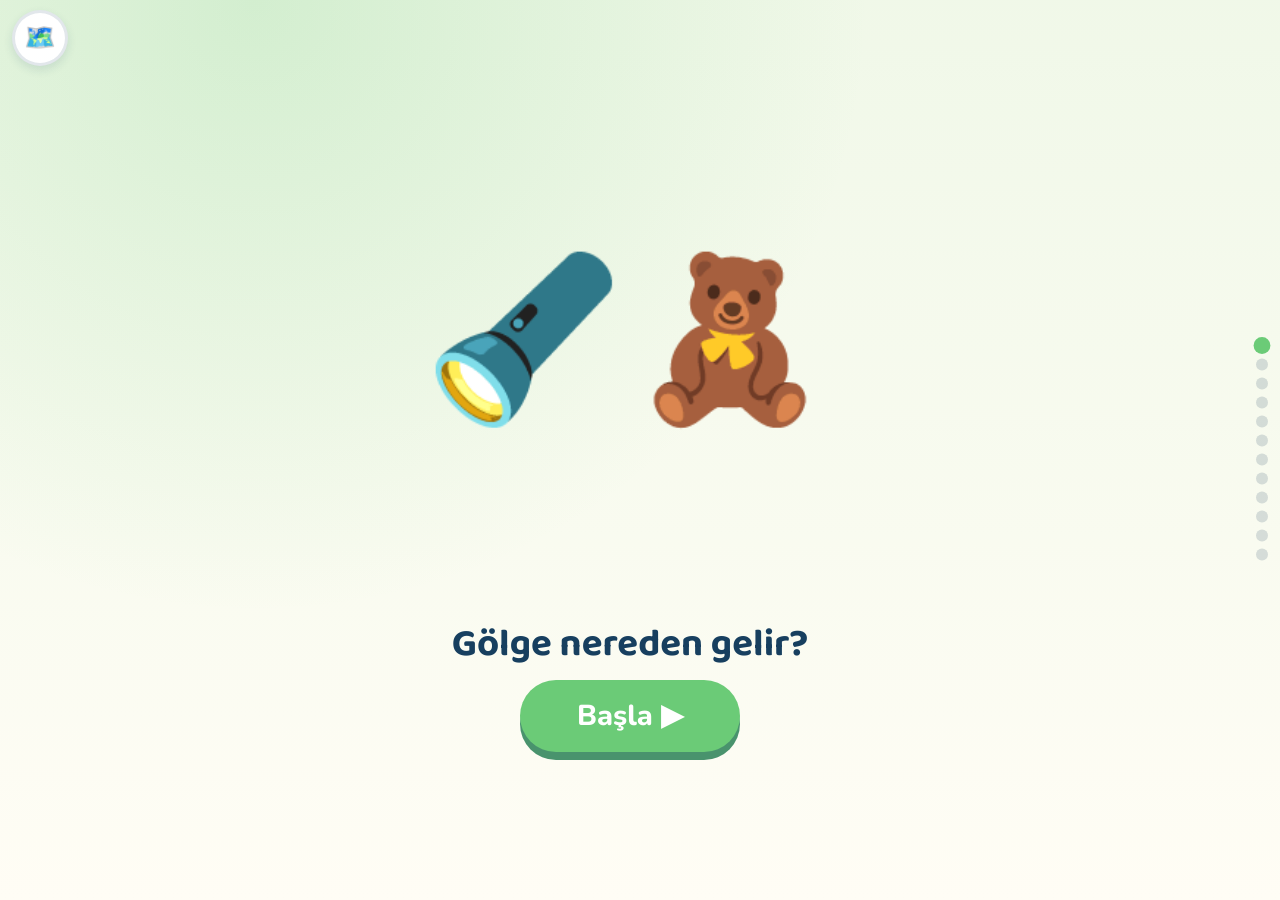
Scenario: CapsuleFeed › speaks on the Başla gesture and only reveals the next card after a tap
The width and height of the screenshot is (1280, 900).
Later steps or results of the test are not shown.
Click the button "Başla ▶": (630, 716) [520, 680, 740, 752]
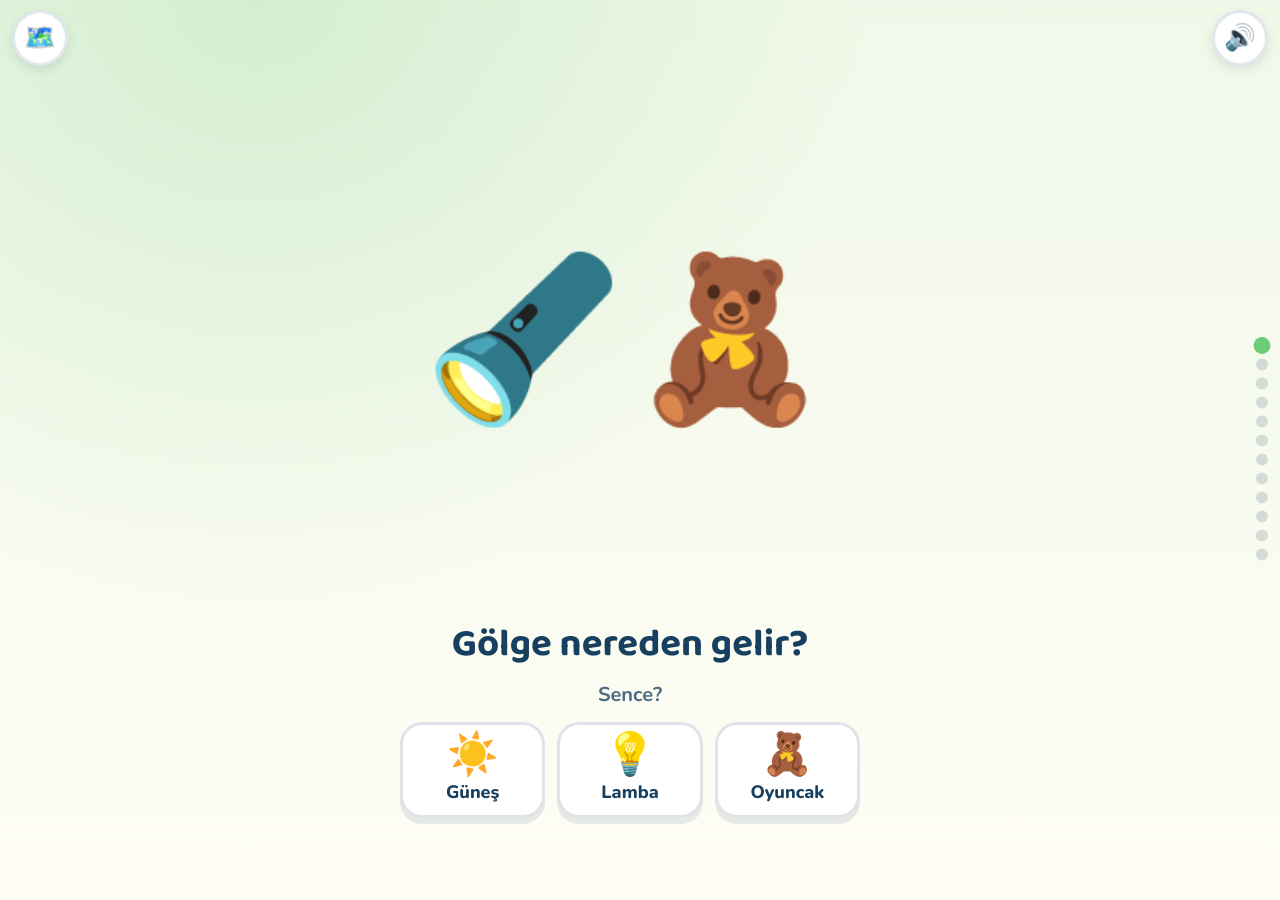
Click the button "☀️ Güneş": (473, 770) [400, 722, 545, 818]
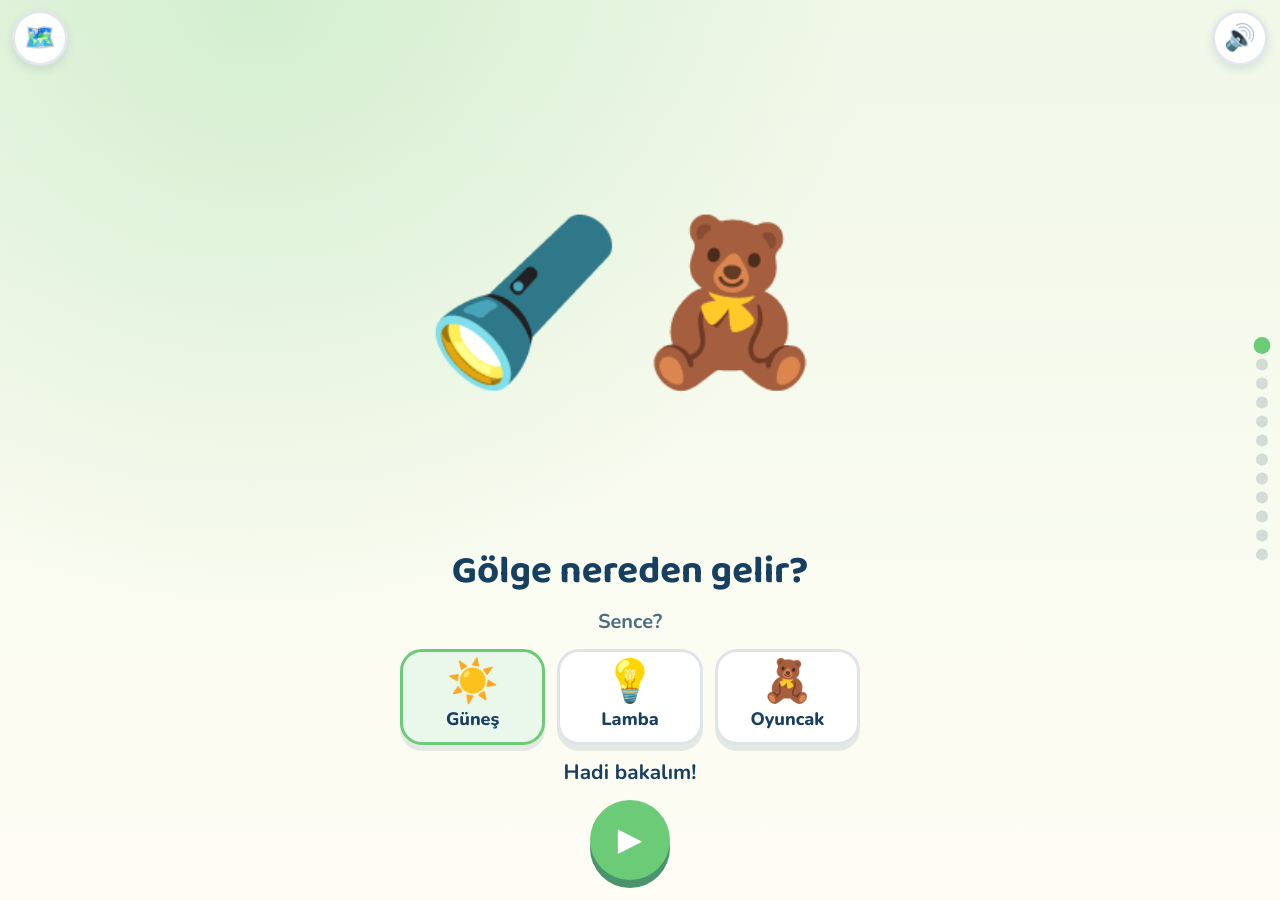
Expected: the button named "Sonraki kart" is shown, [590, 800, 670, 880]
